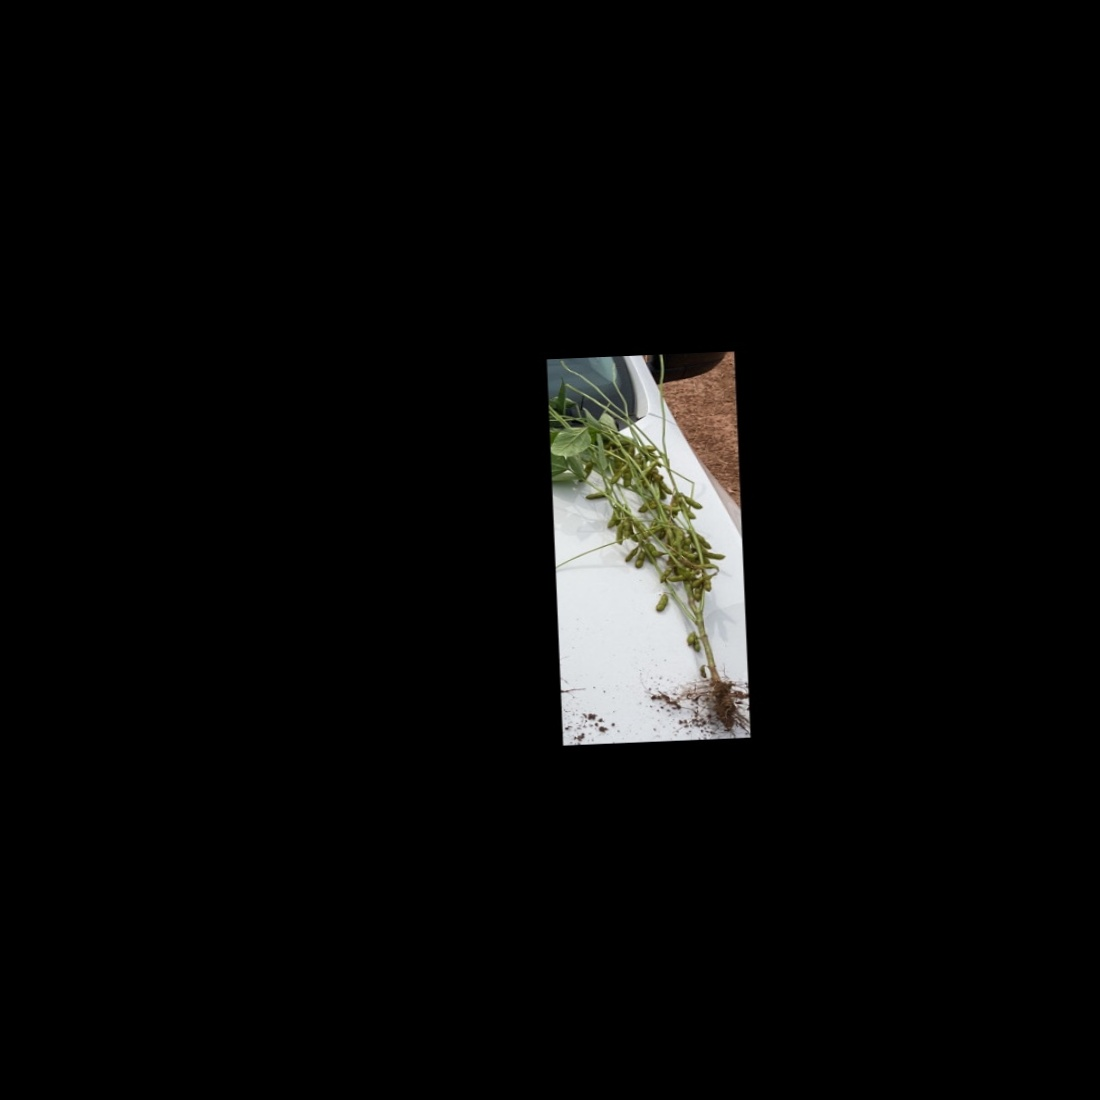pod: (652, 589, 675, 616), (679, 493, 706, 512), (607, 463, 630, 486), (620, 543, 643, 564), (632, 548, 648, 570), (644, 538, 663, 556), (655, 565, 673, 584), (578, 490, 608, 501), (614, 521, 626, 546)
soy: (550, 353, 746, 732)
